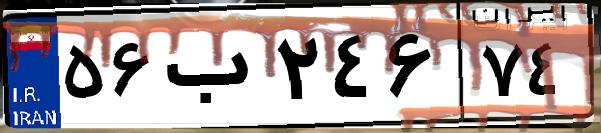2: (270, 28, 330, 110)
4: (330, 28, 385, 110), (525, 38, 570, 115)
5: (57, 26, 110, 100)
6: (385, 28, 445, 110), (110, 28, 158, 98)
7: (475, 38, 525, 113)
ب: (158, 20, 270, 120)
